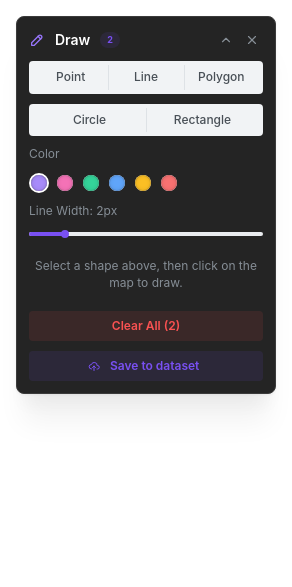
Scenario: the draw panel commits drawn shapes to a branch › sends one insert per shape and clears the saved shapes
Click the button with test id "draw-save-open".
click(146, 366)  # box [29,351,263,381]
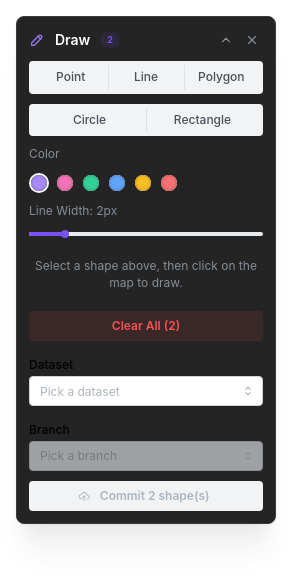
Click the field with placeholder "Pick a dataset".
click(146, 391)  # box [29,376,263,406]
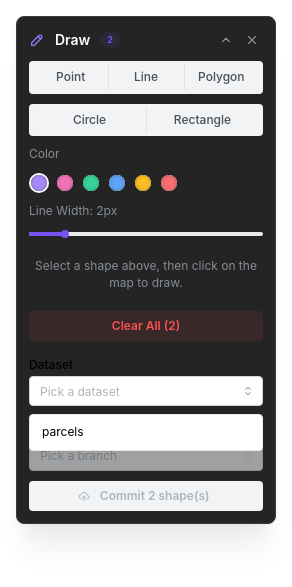
Click the option "parcels".
click(63, 432)  # box [42,424,84,439]
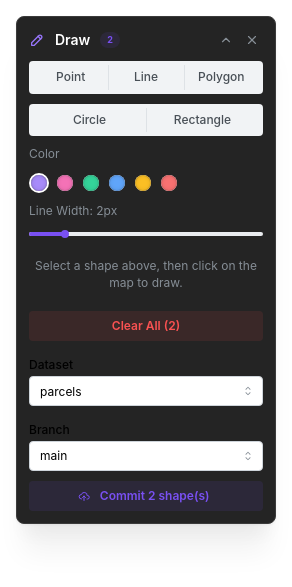
expect the field showing "main" is shown: met, box [29,441,263,471]
Click the button with test id "draw-save-commit".
click(146, 496)  # box [29,481,263,511]
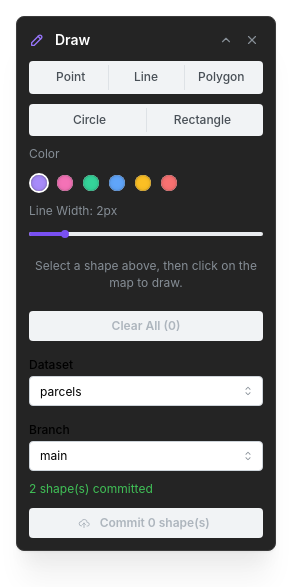
expect the text "2 shape(s) committed" is shown: met, box [29,481,153,496]
